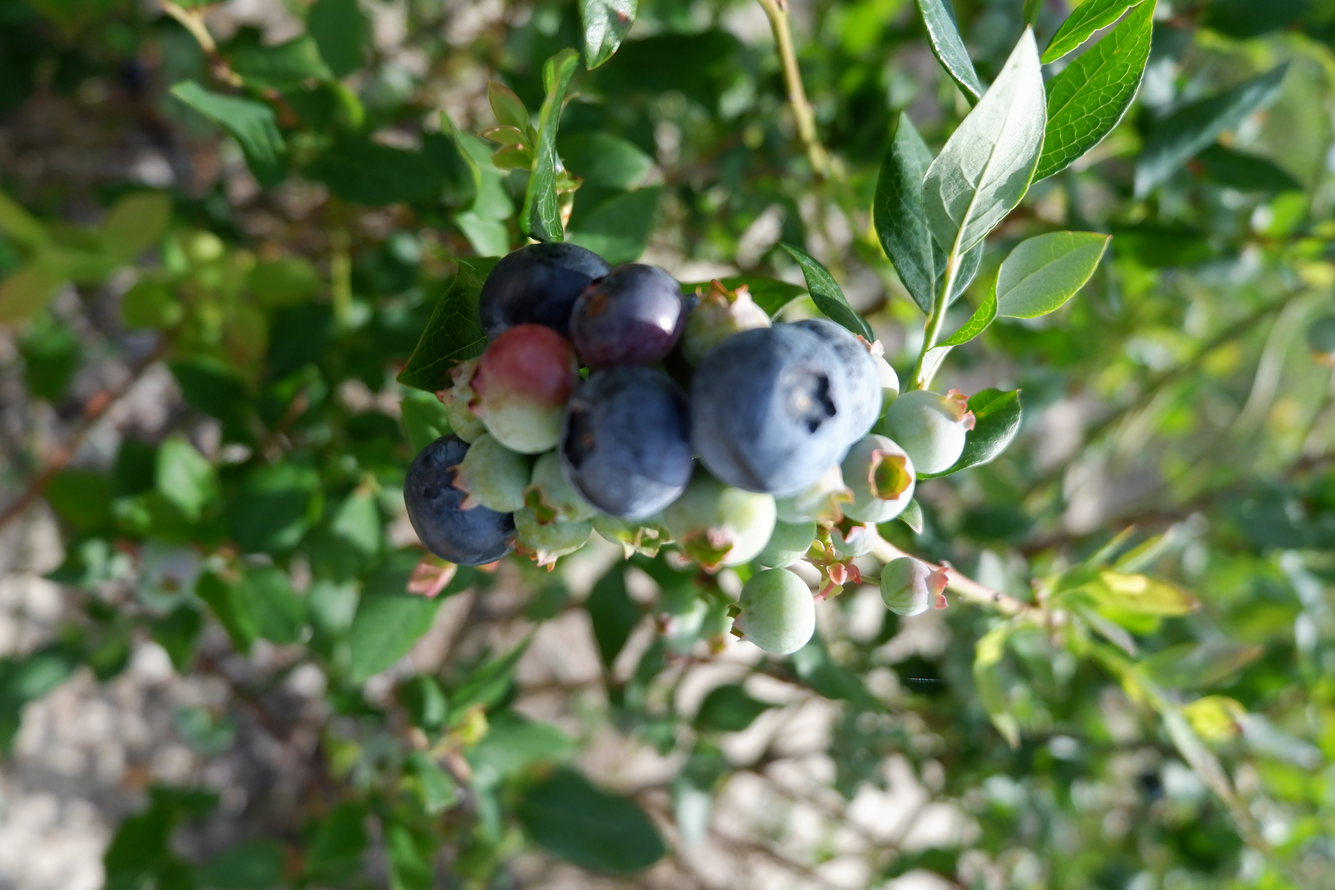Immature: (472, 326, 575, 450), (663, 464, 774, 565), (880, 392, 974, 473), (682, 282, 769, 363), (735, 571, 814, 652), (842, 436, 915, 521), (457, 435, 535, 510), (515, 501, 588, 567), (588, 509, 676, 561), (531, 451, 596, 520), (778, 469, 850, 521), (882, 557, 947, 614), (439, 357, 484, 437), (863, 337, 900, 431), (758, 516, 813, 566), (830, 515, 880, 560)
Mature: (691, 327, 862, 492), (562, 372, 691, 519), (406, 438, 513, 563), (480, 245, 607, 343), (573, 266, 683, 368), (790, 321, 882, 433)
